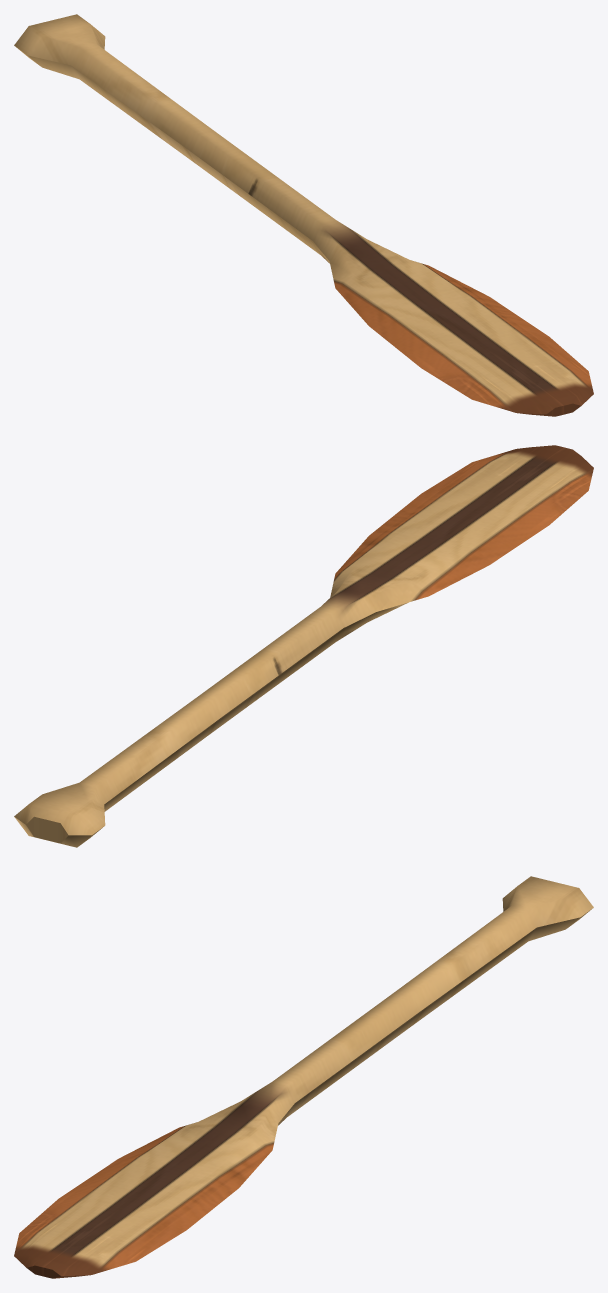
File: CanoePaddle.glb
3 views of the same model, one above another, from view 1: azimuth 30°, elevation 25°; view 2: azimuth 150°, elevation 25°; view 3: azimuth 330°, elevation 25° (orthographic).
Parts seen in each view (by area): view 1: CanoePaddle; view 2: CanoePaddle; view 3: CanoePaddle.
Part boxes in pixels (bbox=[...]): CanoePaddle: bbox=[14, 14, 593, 416]; CanoePaddle: bbox=[14, 445, 593, 847]; CanoePaddle: bbox=[14, 876, 593, 1278].
Bounding box in the file's own units: 0.66 × 0.156 × 4.6.
Materials: 1 (1 with a texture image).
